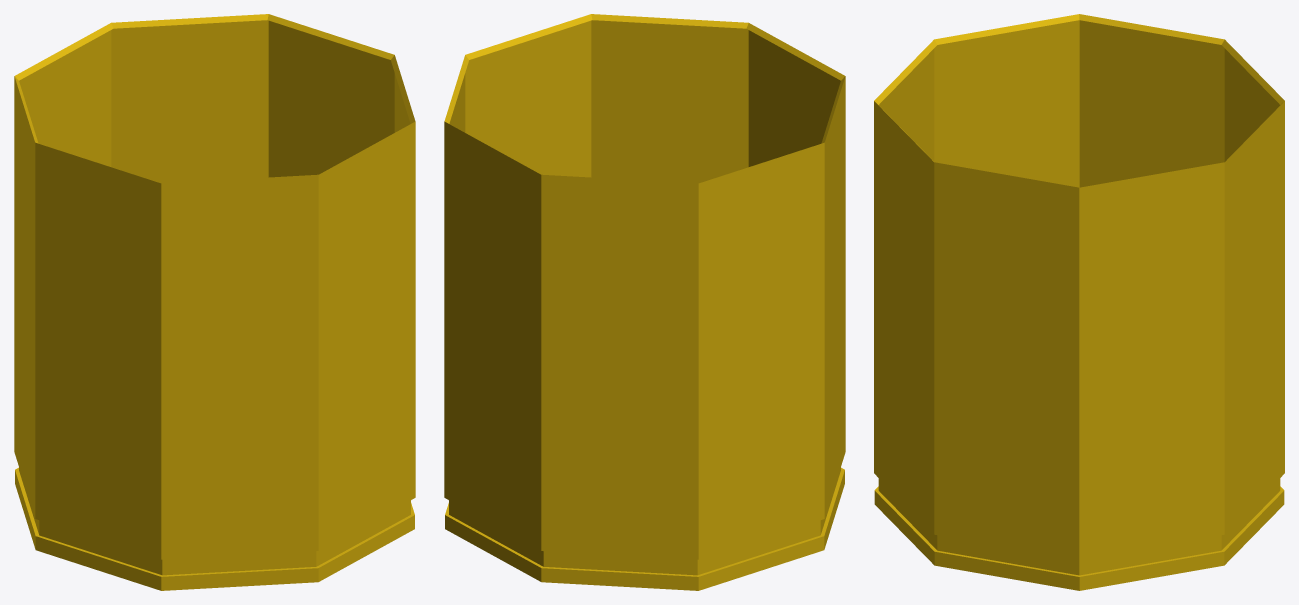
File: bulletshell.glb
3 renders of one model, left to right at view 1: azimuth 30°, elevation 25°; view 2: azimuth 150°, elevation 25°; view 3: azimuth 270°, elevation 25°, orthographic.
Parts seen in each view (by area): view 1: Cylinder; view 2: Cylinder; view 3: Cylinder.
Boxes of the visible parts, x1=… form: Cylinder: x1=14, y1=14, x2=415, y2=590; Cylinder: x1=444, y1=14, x2=845, y2=590; Cylinder: x1=874, y1=14, x2=1284, y2=590.
Bounding box in the file's own units: 0.6138 × 0.6651 × 0.6138.
Materials: 1 (1 with a texture image).
